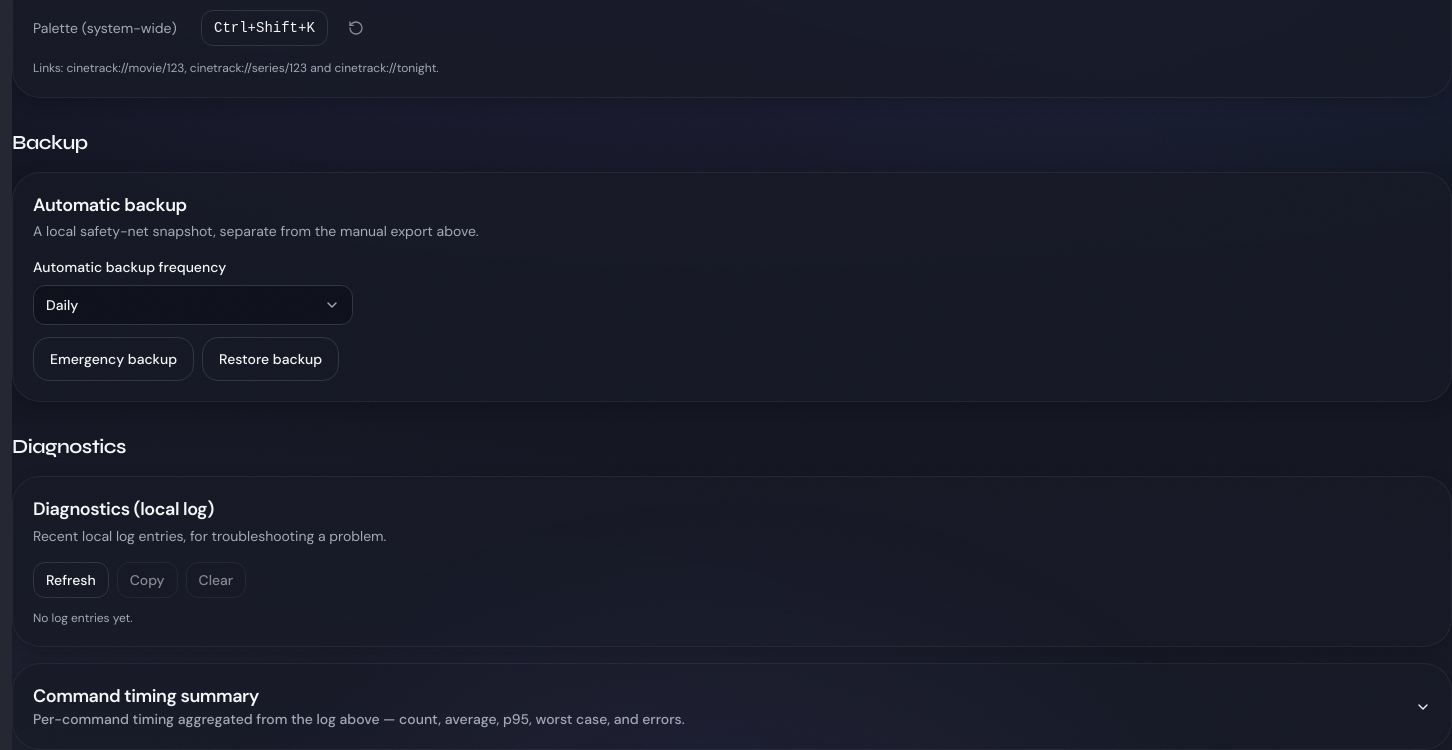
Scenario: DesktopSettings › command timing summary › renders one row per command, sorted by p95 descending, and refresh re-fetches the summary
(page scrolled)
Click the button "Command timing summary" at (146, 696), box [33,684,1431,729]
(page scrolled)
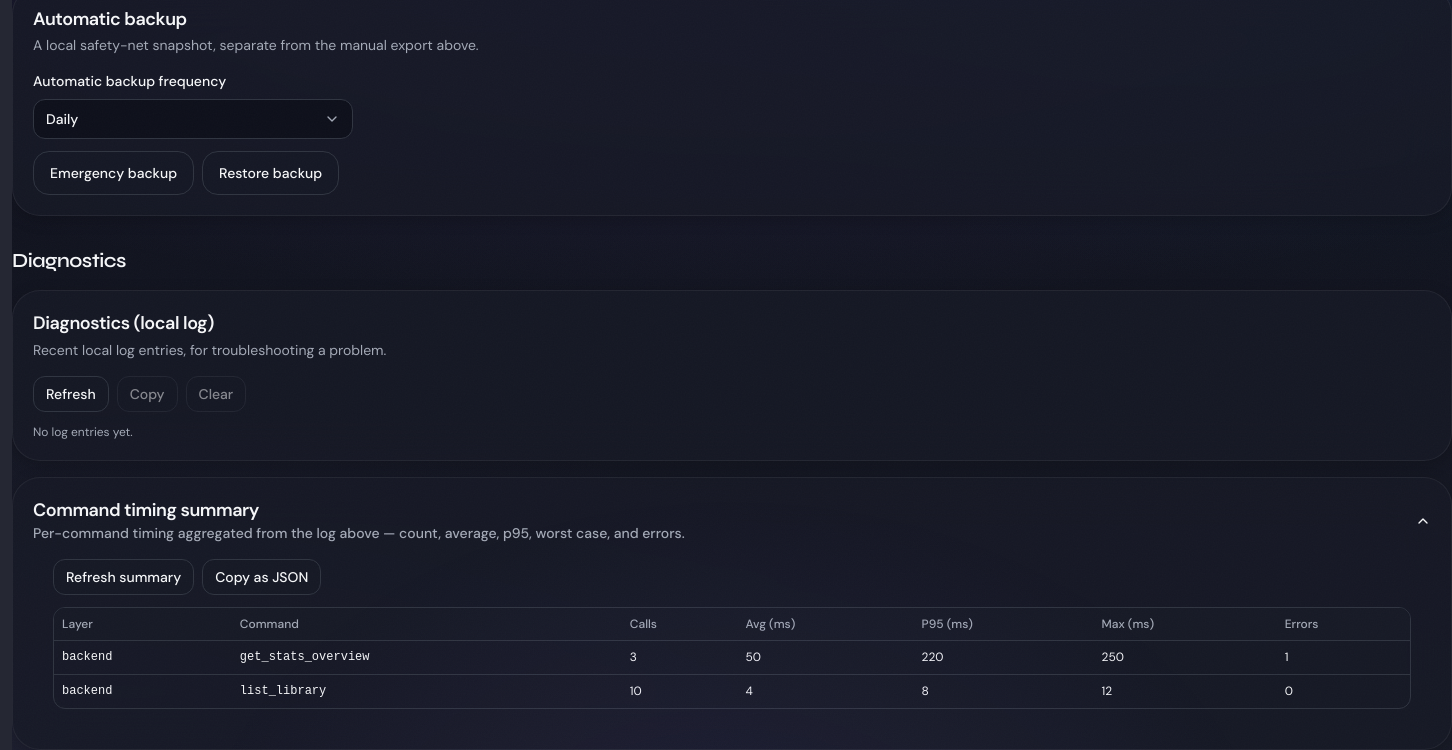
Check: the table is shown, box [54,608,1410,708]
Check: the row "backend get_stats_overview 3 50 220 250 1" is shown, box [54,641,1410,675]
Check: the row "backend list_library 10 4 8 12 0" is shown, box [54,675,1410,708]
Click the button "Refresh summary" at (124, 577), box [53,559,194,595]
(page scrolled)
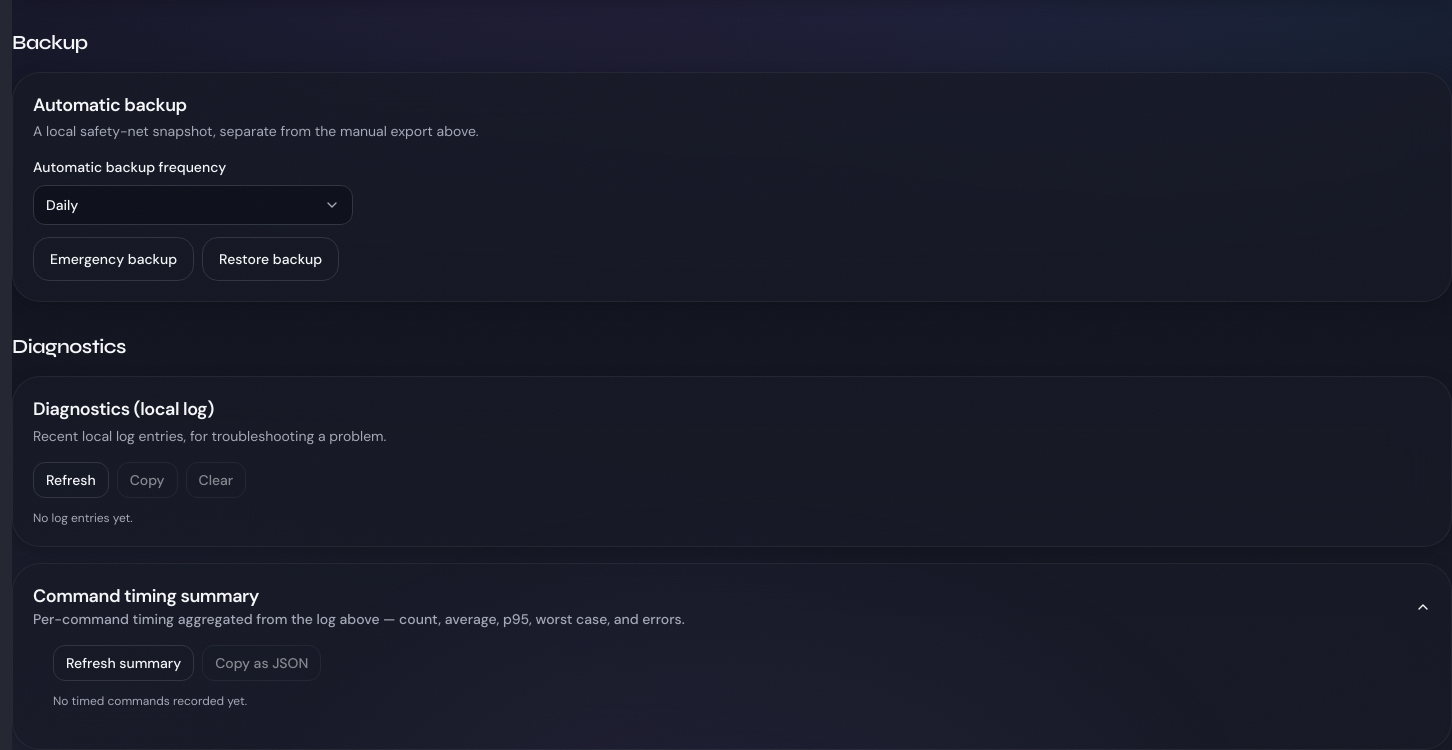
Check: the text "No timed commands recorded yet." is shown, box [53,693,247,709]
